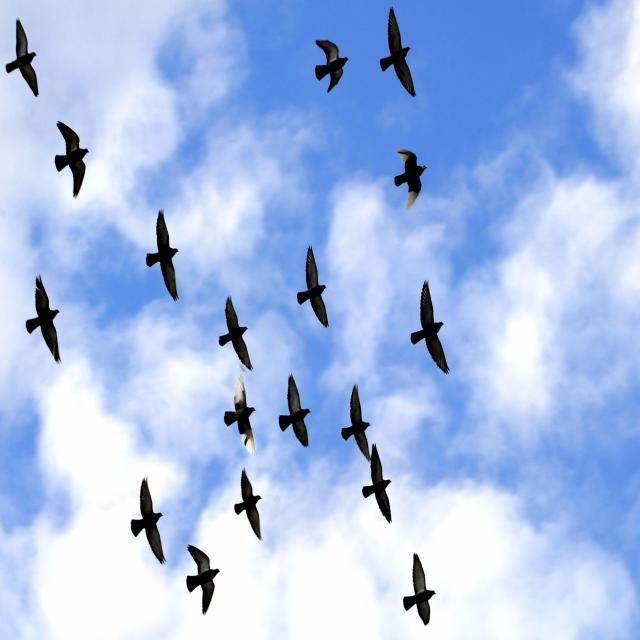bird: (405, 272, 465, 382), (214, 366, 266, 471), (0, 11, 52, 114), (380, 0, 428, 107), (23, 266, 71, 369), (145, 201, 190, 309), (289, 242, 337, 343), (382, 138, 433, 226), (47, 112, 96, 203), (214, 292, 263, 378), (176, 537, 228, 618), (130, 469, 171, 570), (228, 464, 272, 552), (274, 372, 315, 462), (360, 442, 399, 532), (310, 35, 356, 106), (400, 550, 438, 633), (339, 371, 368, 460)
